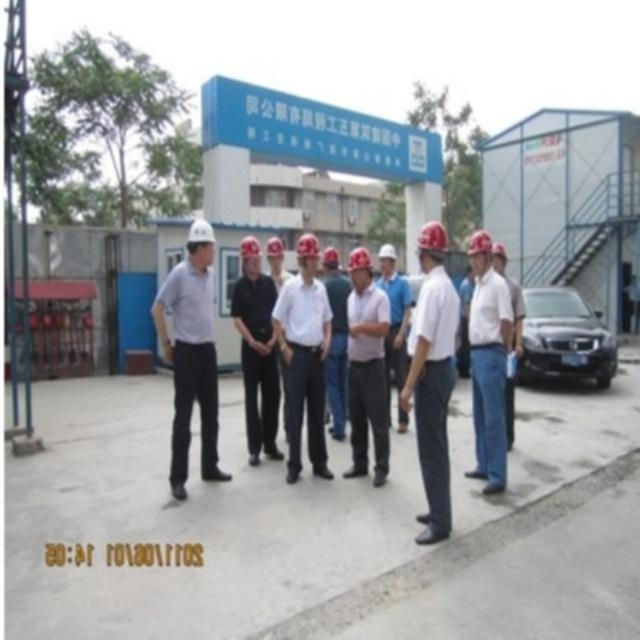Con_Casco: (415, 220, 449, 270), (186, 220, 216, 273), (468, 229, 494, 275), (347, 248, 373, 288)
